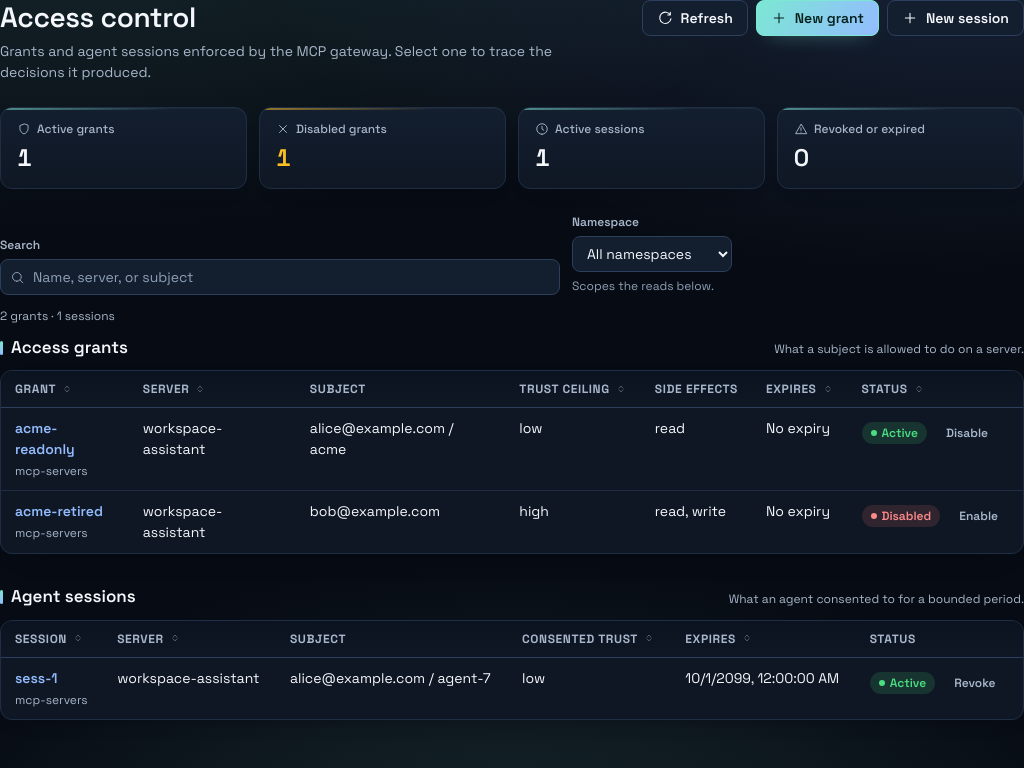
Test case: AccessWorkspace mutations › cancels without writing
expect the table with test id "grants-table" is shown: met, box [1,371,1023,553]
Click the button with test id "session-toggle". click: [975, 682]
box: [943,668,1006,698]
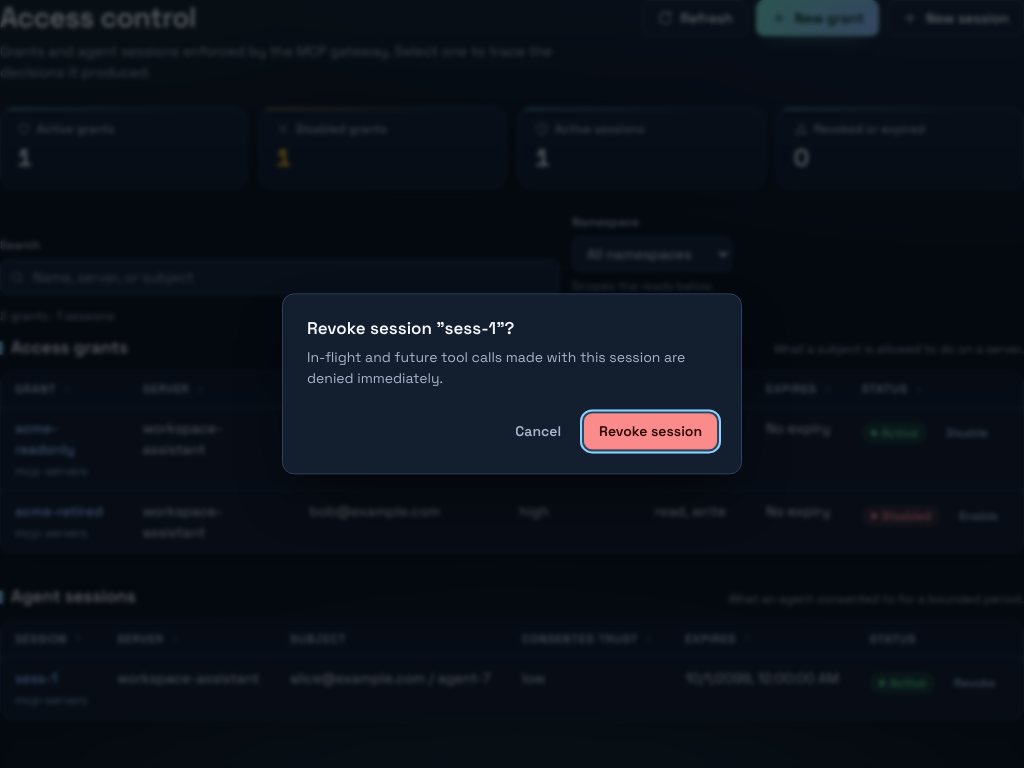
expect the dialog with test id "access-confirm" is shown: met, box [282,293,742,475]
Click the button with test id "access-confirm-cancel". click: [538, 432]
box: [500,414,576,450]
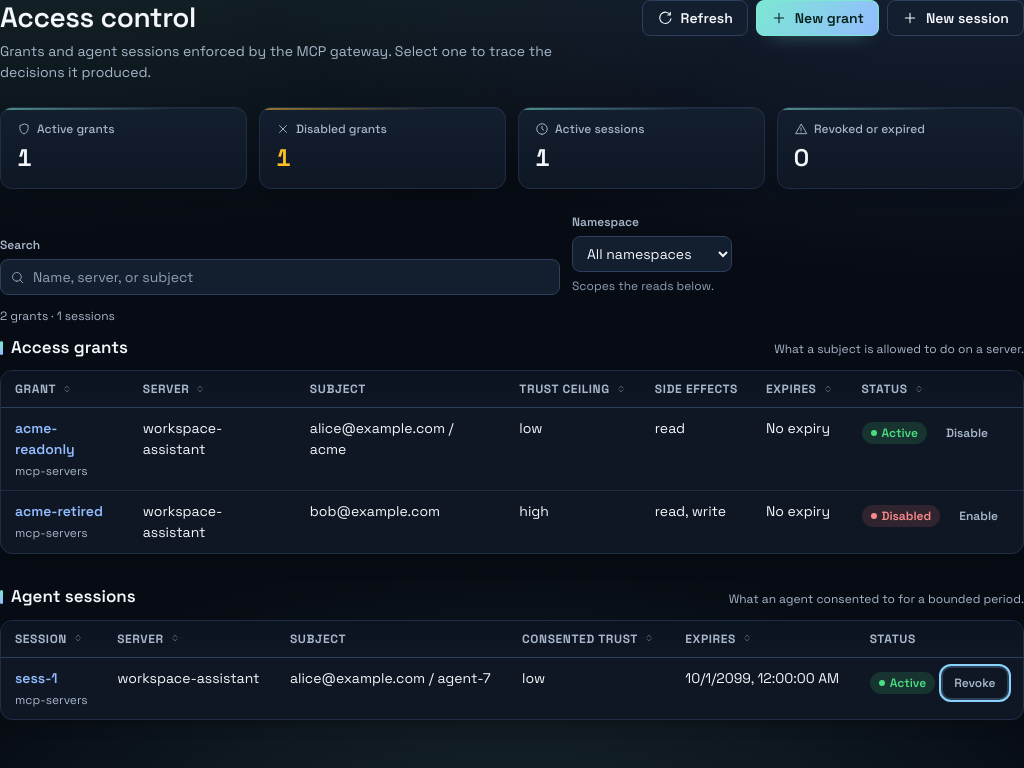
expect the dialog with test id "access-confirm" is gone: met
